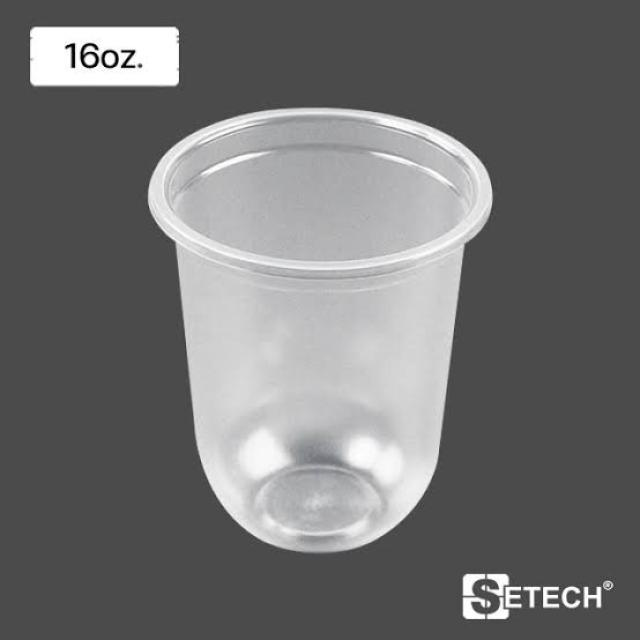plastic cup: (118, 98, 471, 565)
